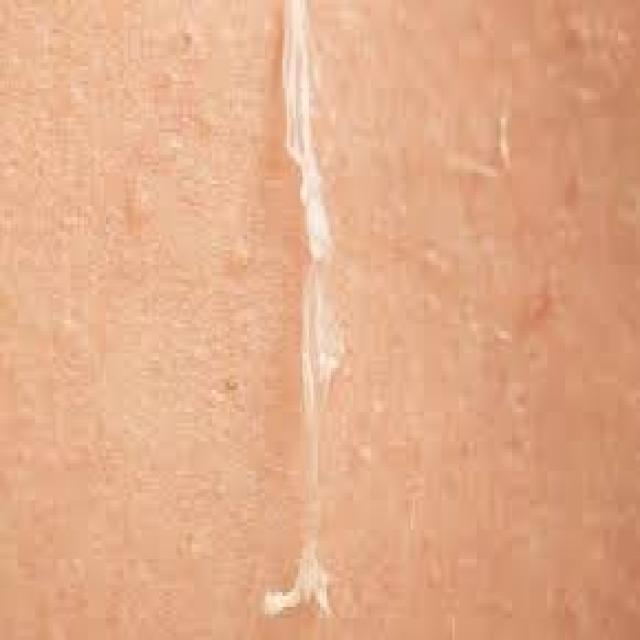Dry-Skin: (234, 0, 425, 606), (464, 49, 614, 501)
